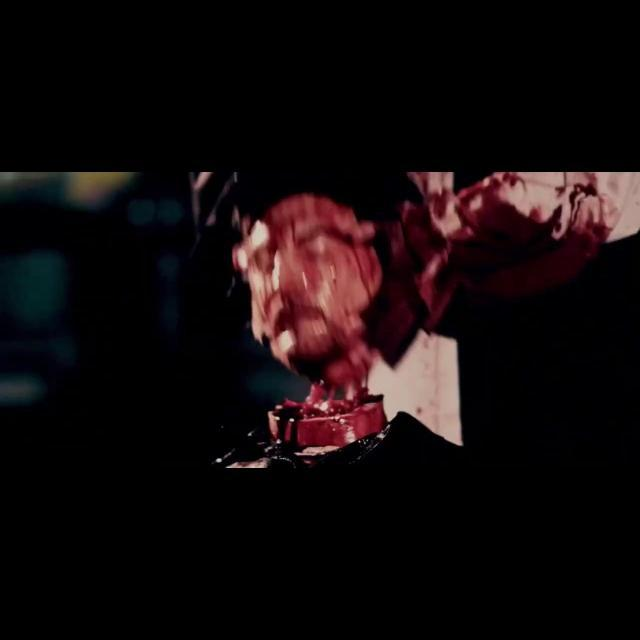blood: (214, 170, 619, 472), (414, 404, 425, 416)
